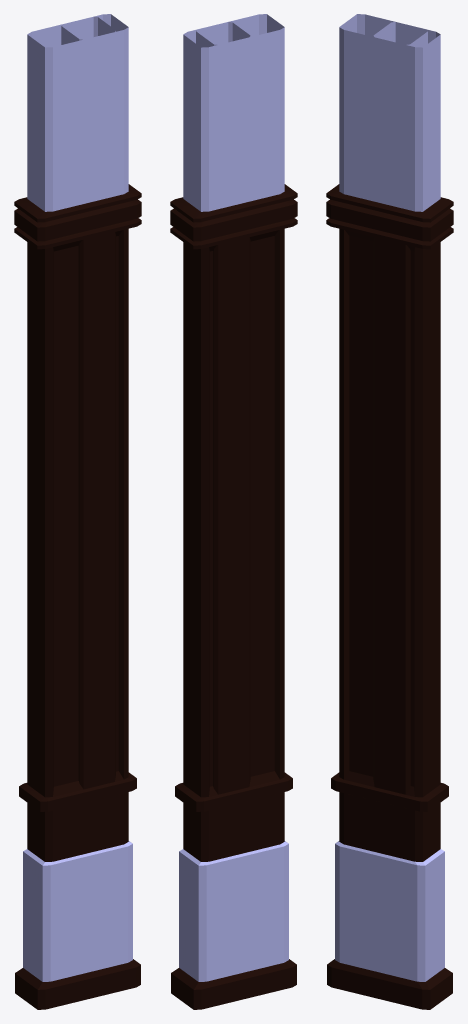
The model's file is Pilars.fbx.
The picture shows the model from 3 angles, left to right: view 1: azimuth 30°, elevation 25°; view 2: azimuth 210°, elevation 25°; view 3: azimuth 330°, elevation 25°; orthographic projection.
Visible parts, largest first — view 1: WallPilar02, WallPilar01; view 2: WallPilar02, WallPilar01; view 3: WallPilar02, WallPilar01.
Boxes of the visible parts, x1,y1,x2,y2 form: WallPilar02: (14,14,141,1009); WallPilar01: (61,16,121,999); WallPilar02: (170,14,297,1009); WallPilar01: (196,22,256,1005); WallPilar02: (326,14,453,1009); WallPilar01: (367,22,427,1005).
Bounding box in the file's own units: 57.01 × 501 × 24.93.
